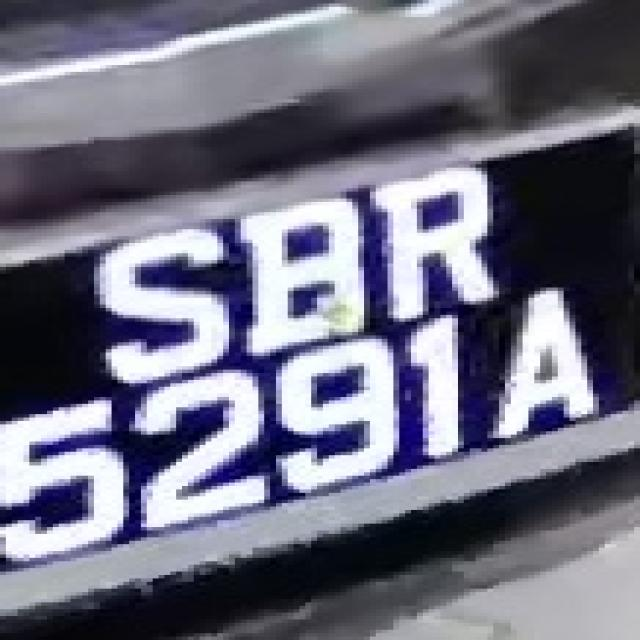1: (399, 294, 482, 476)
2: (129, 366, 276, 534)
5: (6, 387, 135, 578)
9: (264, 336, 399, 497)
A: (482, 287, 622, 448)
B: (223, 181, 376, 363)
R: (364, 157, 523, 322)
S: (82, 216, 223, 383)
